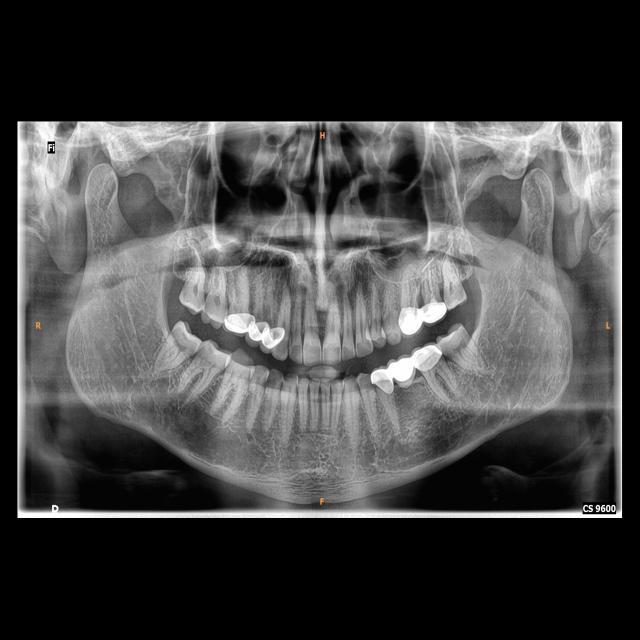kaplama: (412, 347, 448, 372), (398, 304, 426, 336), (225, 307, 252, 336), (372, 364, 396, 394), (419, 299, 445, 325), (260, 326, 286, 351), (390, 355, 415, 381), (245, 319, 268, 342)
